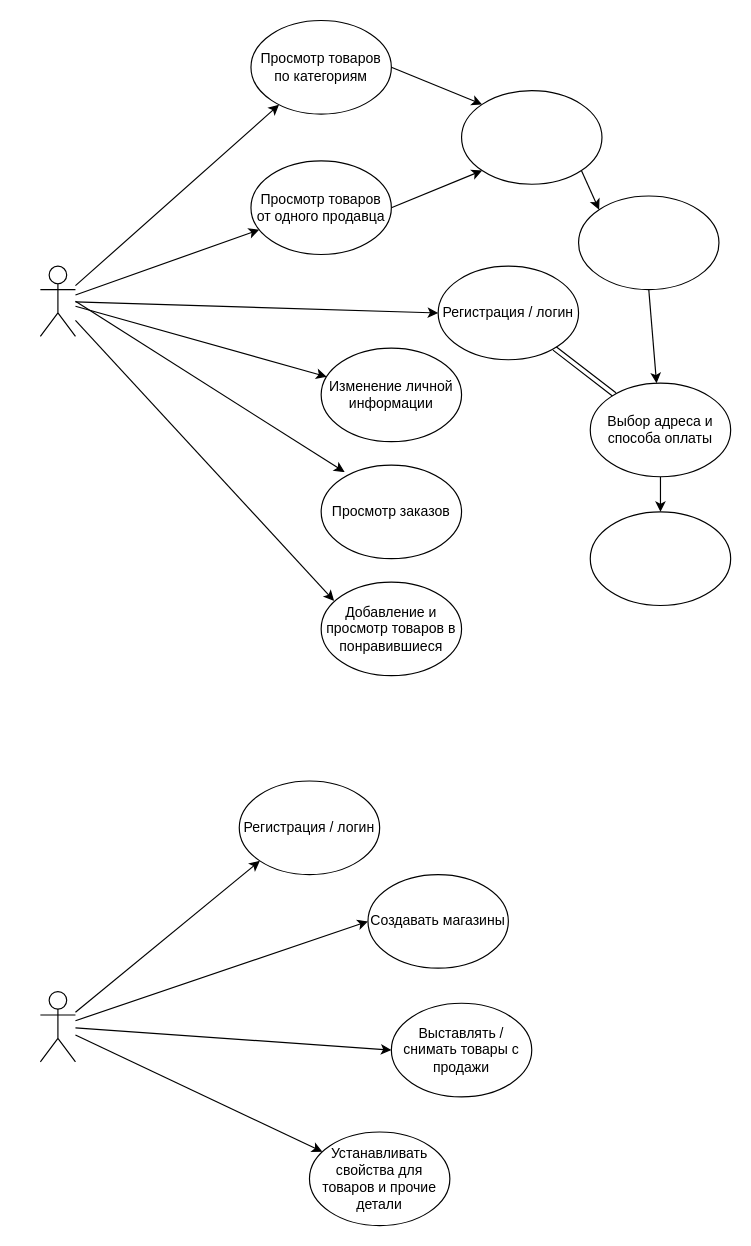
This 751x1246 diagram has some shape labels left out. The shapes that lost their labels are listed below. From the top down, each one's box as (x1, y1, x2, y2) in pixels, then its label:
(460, 90, 602, 184): Выбор товара и его свойств
(577, 195, 719, 290): Добавление в корзину
(39, 265, 75, 336): Покупатель
(589, 511, 731, 605): Покупка товаров
(39, 990, 75, 1062): Продавец
